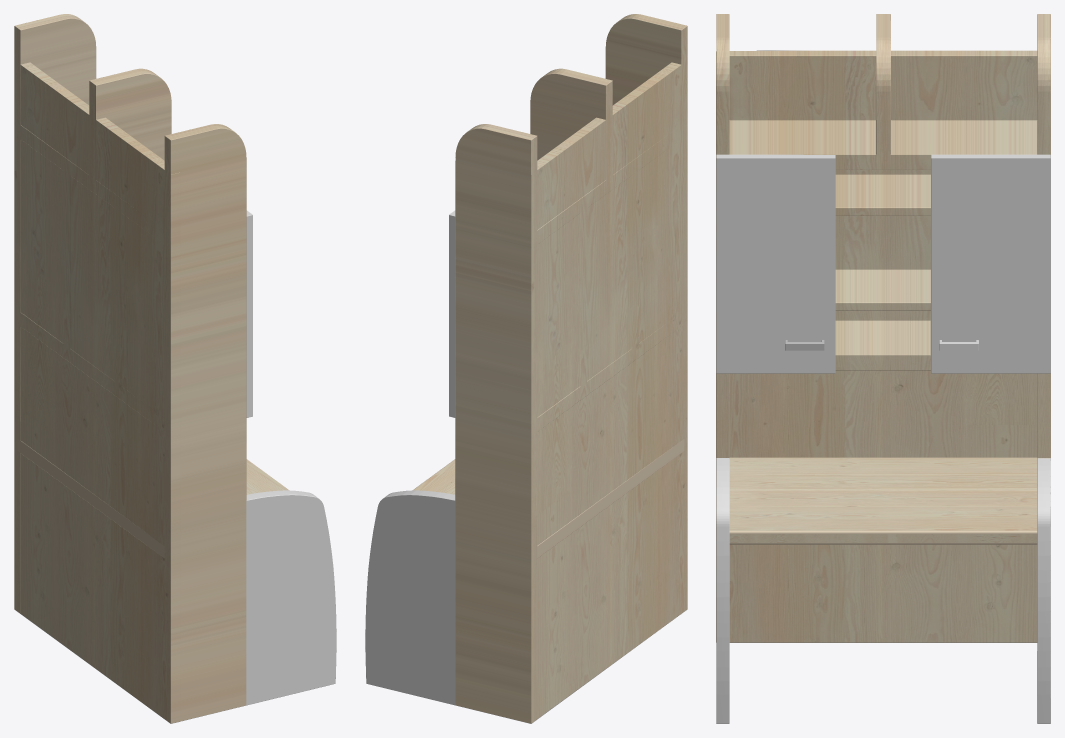
The model's file is desk_r.fbx.
The picture shows the model from 3 angles, left to right: view 1: azimuth 30°, elevation 25°; view 2: azimuth 150°, elevation 25°; view 3: azimuth 270°, elevation 25°; orthographic projection. The views are drawn at different scales.
Parts seen in each view (by area): view 1: polySurface35, polySurface36, polySurface34, polySurface40; view 2: polySurface35, polySurface36, polySurface34, polySurface24; view 3: polySurface36, polySurface35, polySurface34, polySurface24, polySurface40, polySurface37, polySurface38.
Boxes of the visible parts, left/top/right/bottom form: polySurface35: left=14, top=14, right=336, bottom=723; polySurface36: left=18, top=62, right=180, bottom=723; polySurface34: left=17, top=439, right=288, bottom=559; polySurface40: left=246, top=210, right=252, bottom=417; polySurface35: left=365, top=14, right=687, bottom=723; polySurface36: left=531, top=61, right=687, bottom=723; polySurface34: left=413, top=439, right=684, bottom=558; polySurface24: left=449, top=210, right=455, bottom=417; polySurface36: left=716, top=50, right=1037, bottom=642; polySurface35: left=716, top=14, right=1050, bottom=723; polySurface34: left=729, top=457, right=1037, bottom=544; polySurface24: left=931, top=154, right=1050, bottom=373; polySurface40: left=716, top=154, right=835, bottom=373; polySurface37: left=835, top=269, right=930, bottom=310; polySurface38: left=835, top=174, right=930, bottom=215.
Bounding box in the file's own units: 6.13 × 20.58 × 10.
4 materials, 1 textured.
